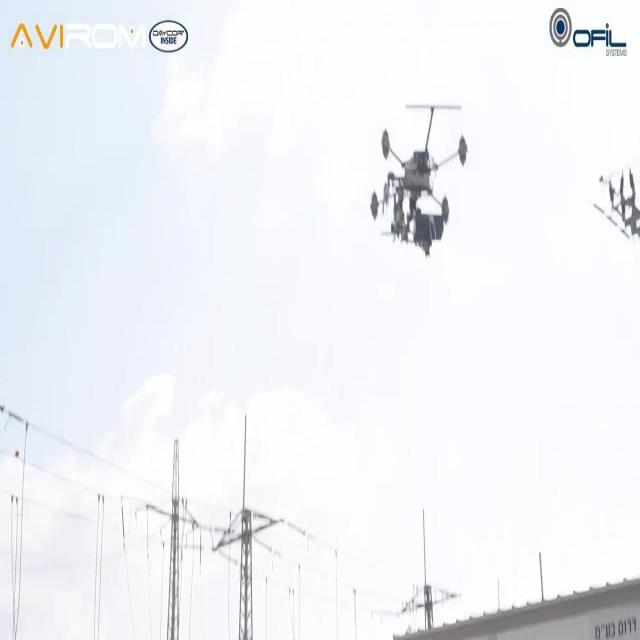UAV: (370, 106, 468, 225)
